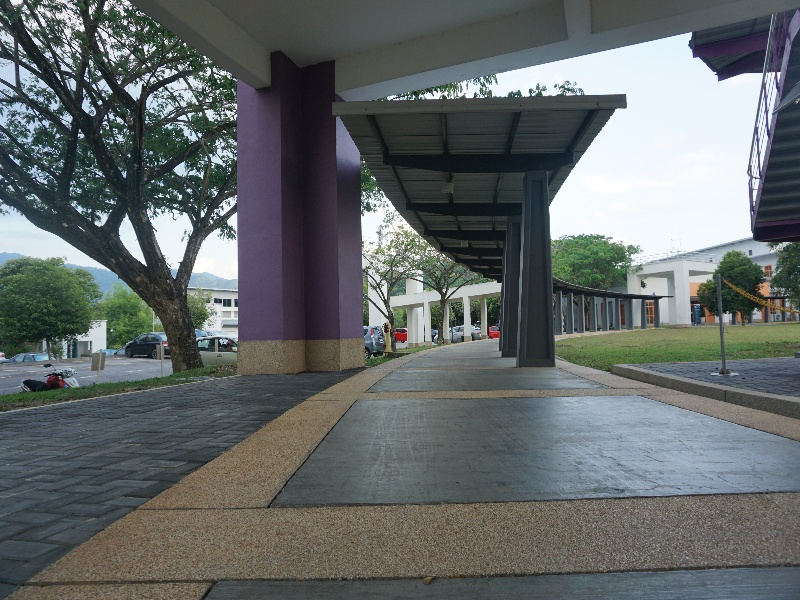Block D Pillar 6: (4, 4, 800, 515)
pillar: (230, 43, 373, 382), (506, 162, 562, 374)
